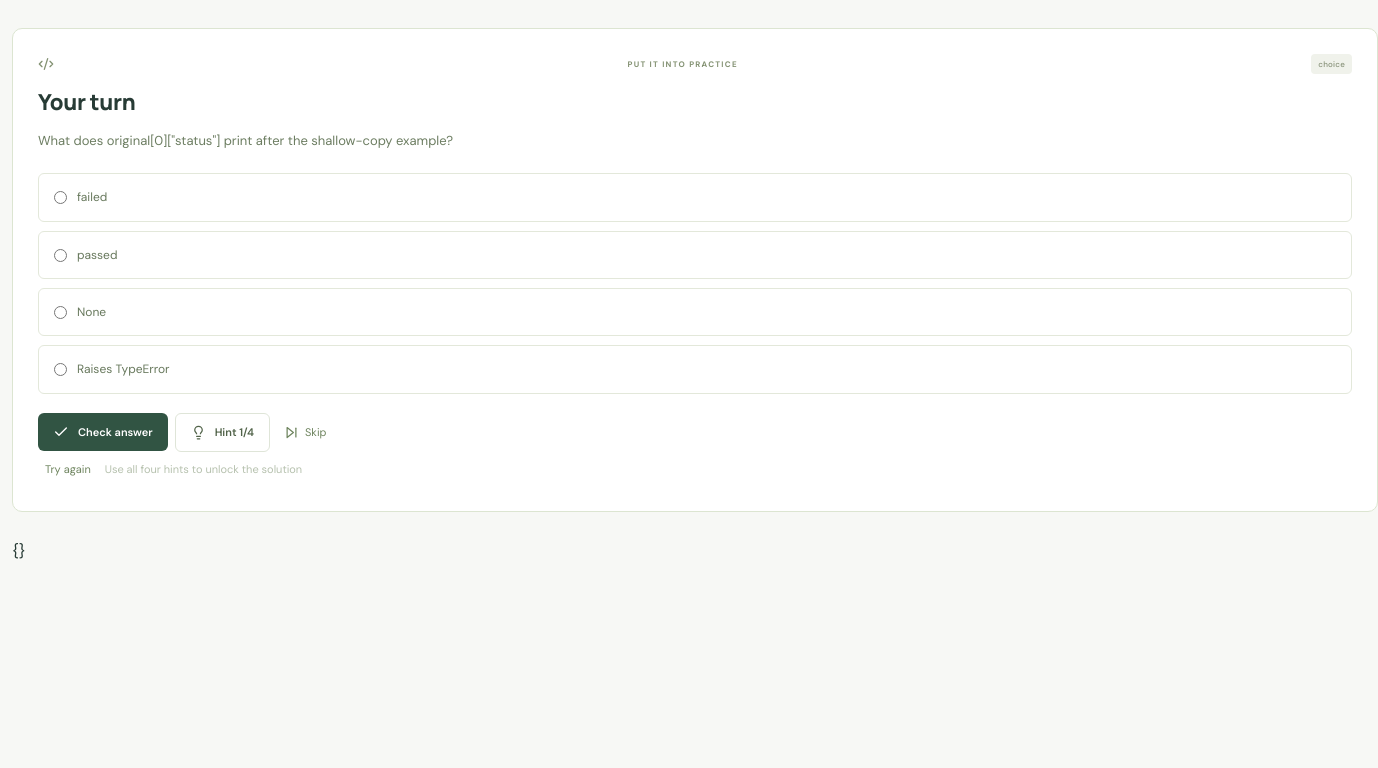
unlocks solution after all four hints and persists a skip
The width and height of the screenshot is (1378, 768).
expect the button "Use all four hints to unlock the solution" is disabled: met, box [98, 452, 309, 486]
Click the button "Hint 1/4" at [222, 432], box [175, 413, 270, 452]
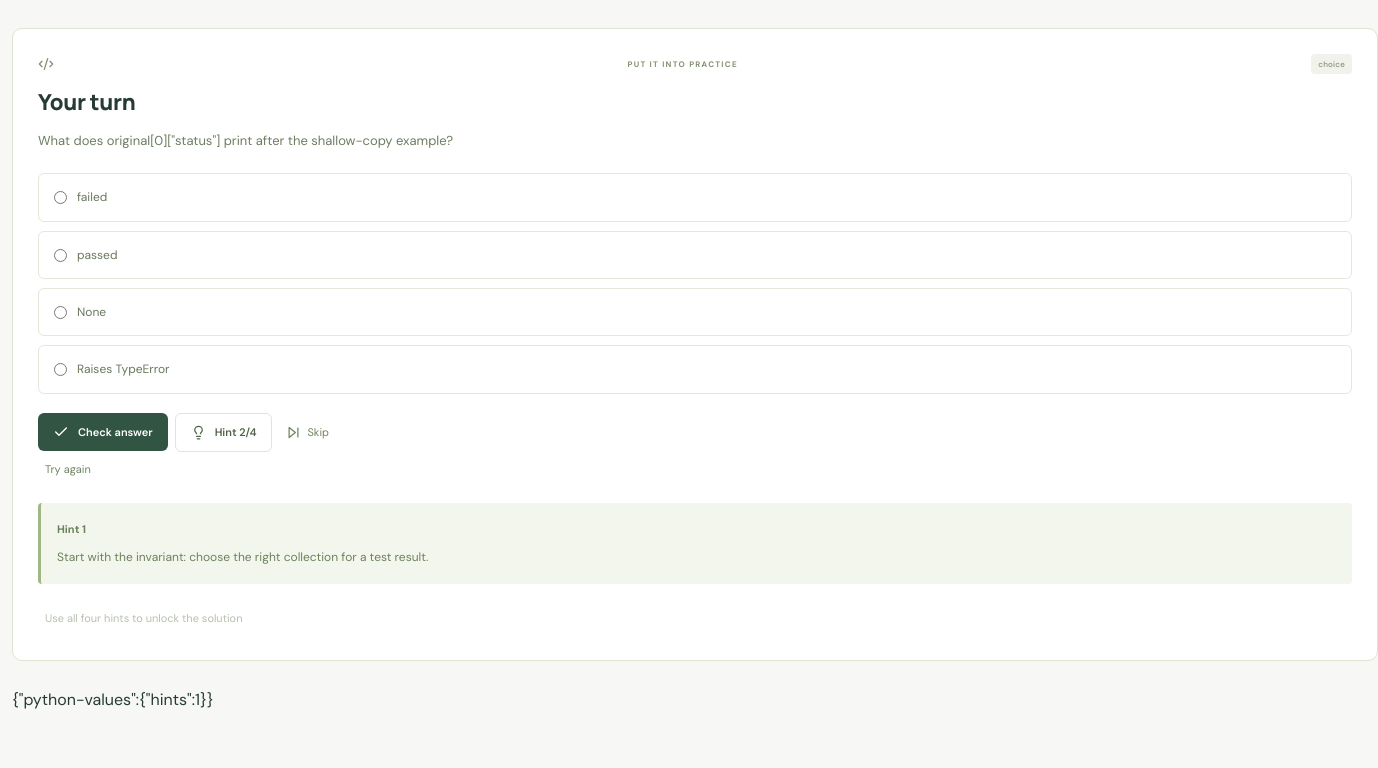
Click the button "Hint 2/4" at [224, 432], box [175, 413, 272, 452]
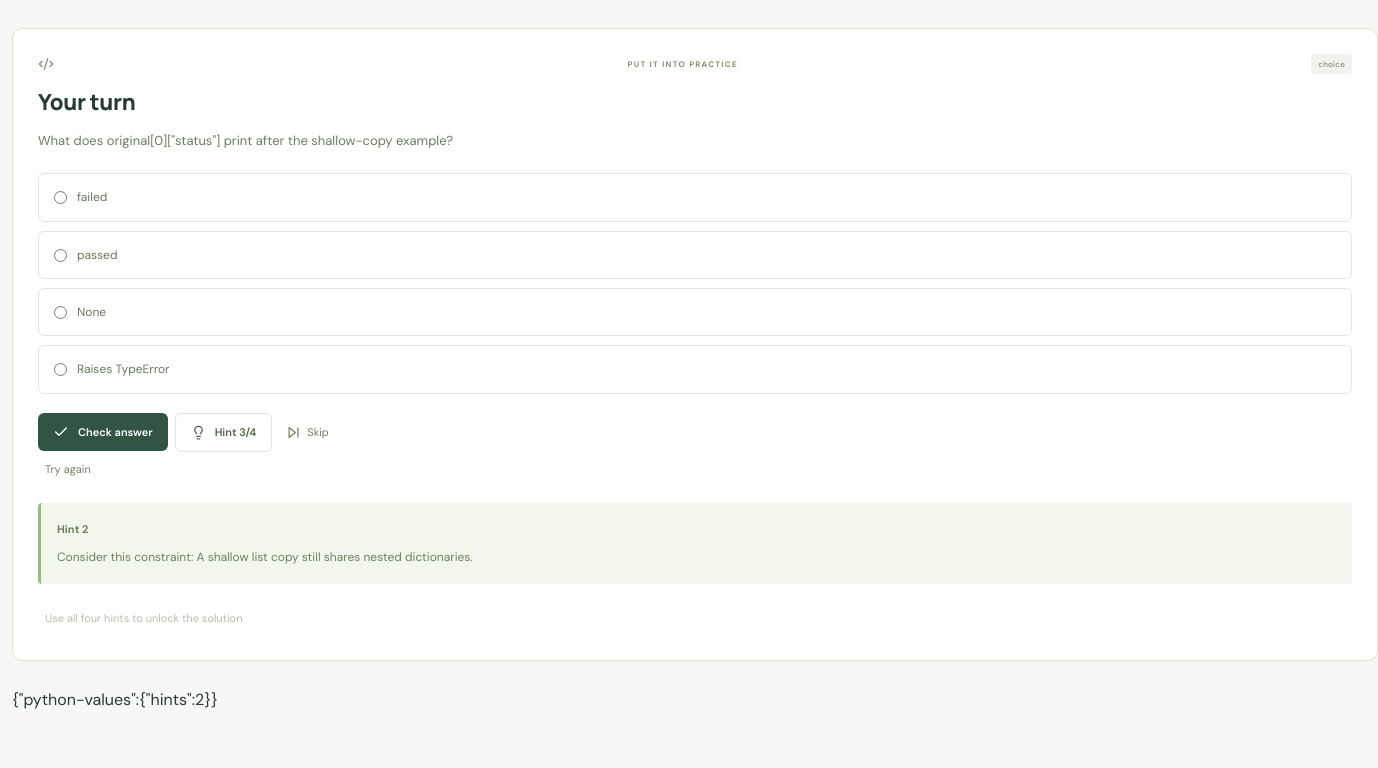
Click the button "Hint 3/4" at [223, 432], box [175, 413, 272, 452]
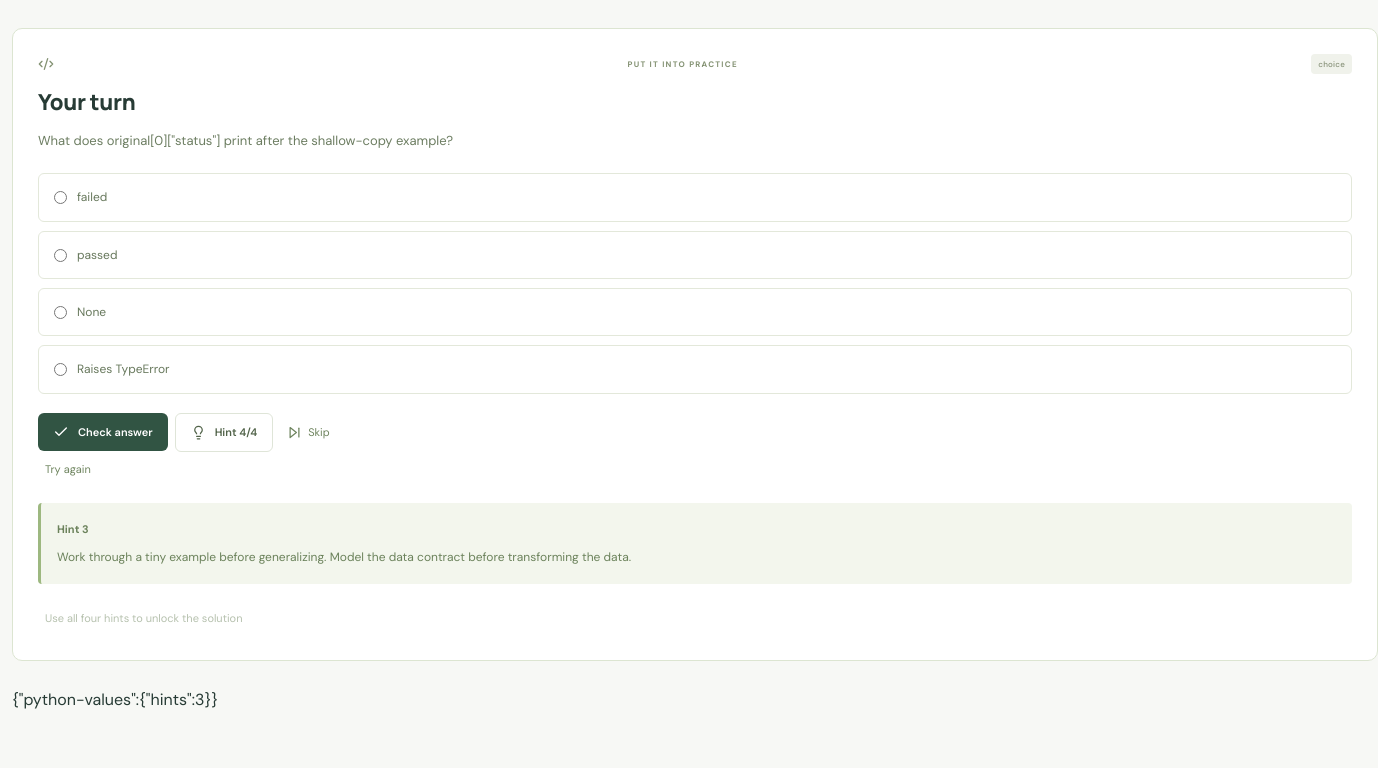
Click the button "Hint 4/4" at [224, 432], box [175, 413, 273, 452]
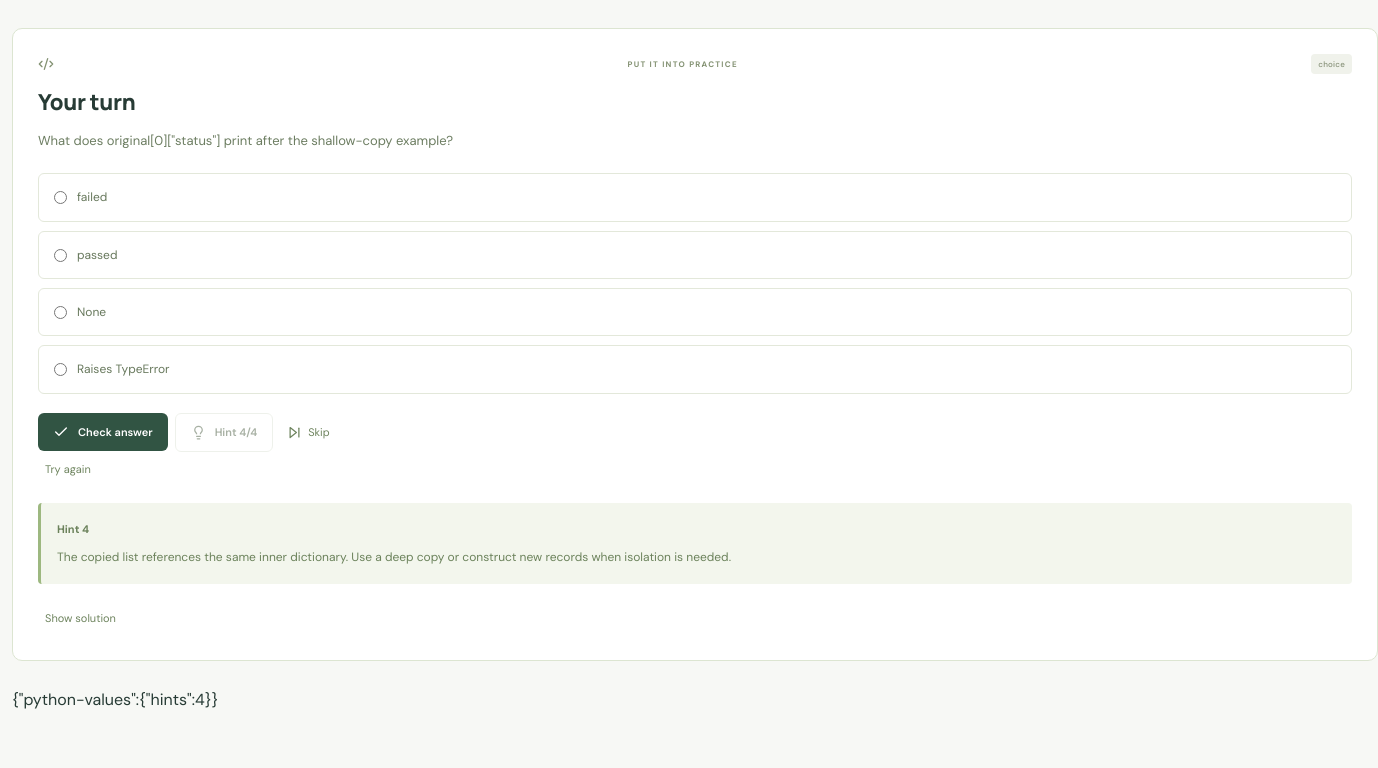
expect the button "Show solution" is enabled: met, box [38, 601, 123, 635]
Click the button "Skip" at [308, 432], box [280, 415, 337, 450]
(page scrolled)
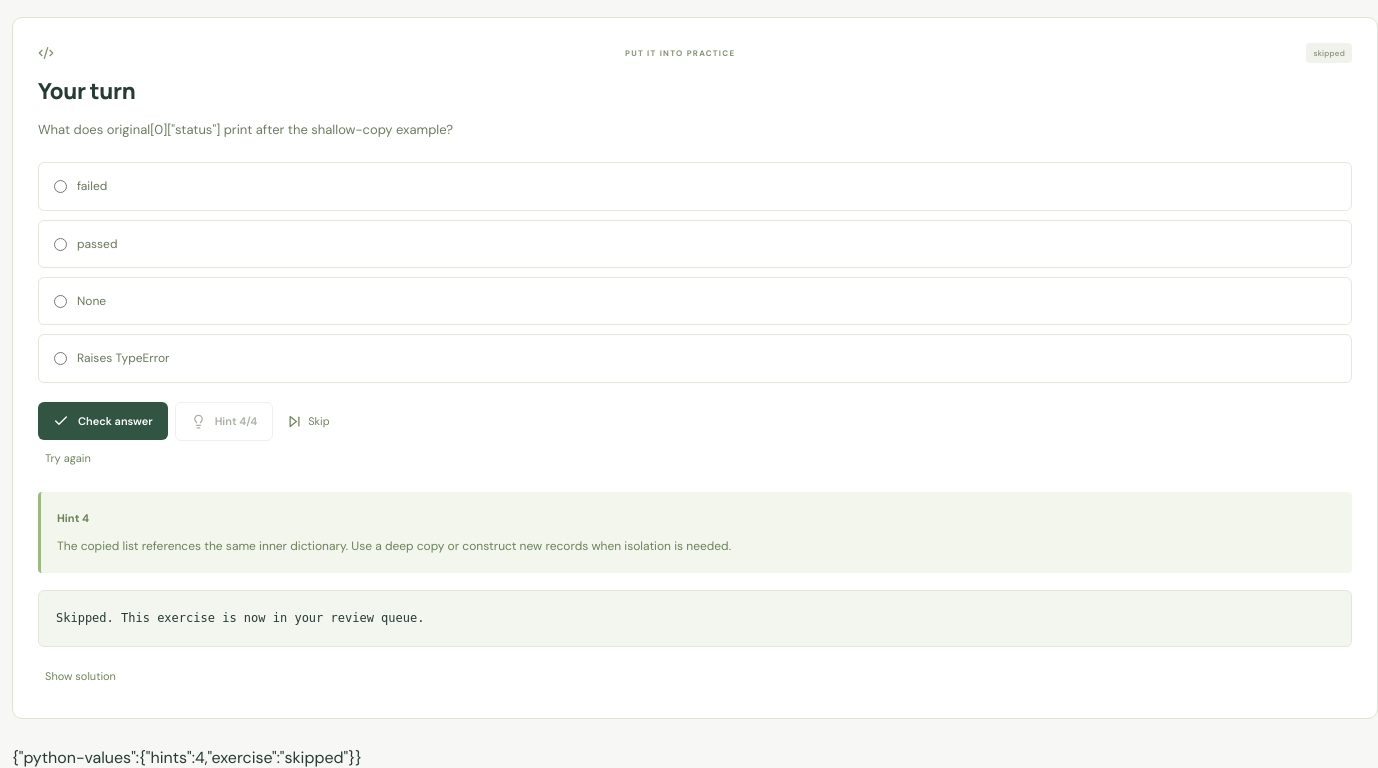
expect the text with test id "state" shows "\"exercise\":\"skipped\"": met, box [12, 747, 362, 767]
